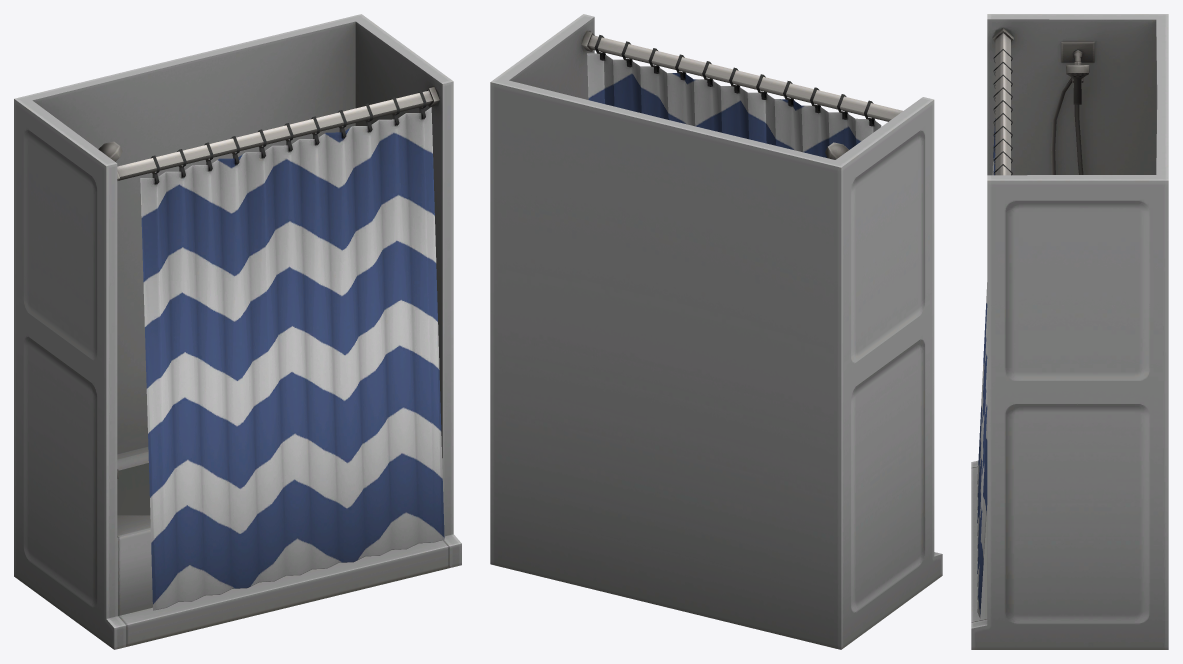
Rendered from bañera.fbx.
3 renders of one model, left to right at view 1: azimuth 30°, elevation 25°; view 2: azimuth 150°, elevation 25°; view 3: azimuth 270°, elevation 25°, orthographic. The views are drawn at different scales.
Visible parts, largest first — view 1: bañera; view 2: bañera; view 3: bañera.
Part boxes in pixels (box(x1,y1,x2,y2)): bañera: box(14, 14, 461, 649); bañera: box(490, 14, 942, 649); bañera: box(971, 14, 1168, 649).
Size of the model in its own units: 185 by 243 by 92.5.
Materials: 3 (3 with a texture image).
